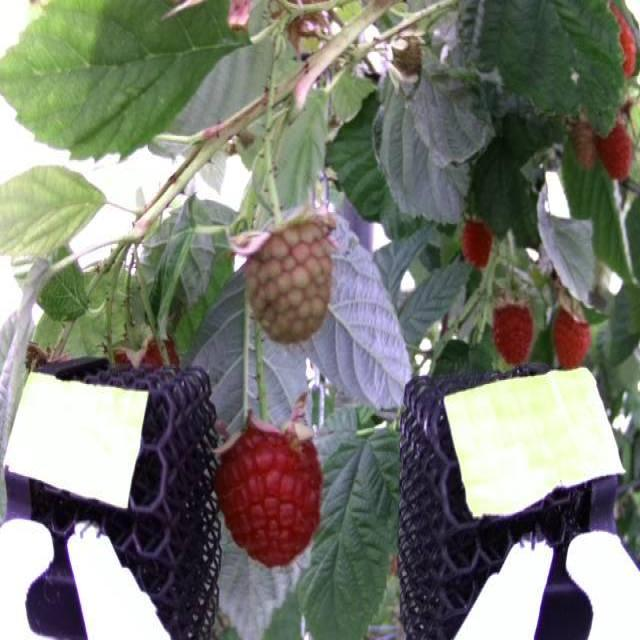Riped berries: (213, 414, 324, 564), (493, 297, 533, 359), (551, 309, 590, 368), (461, 210, 497, 272), (600, 116, 634, 178), (121, 335, 178, 371), (611, 3, 640, 70)
